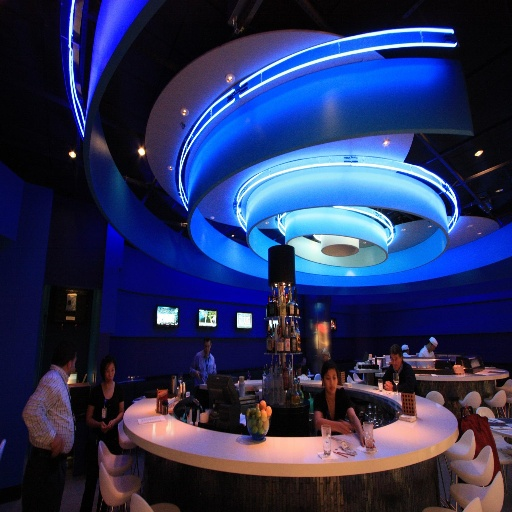hand: (457, 417, 503, 509), (51, 432, 62, 457), (359, 430, 375, 447), (339, 420, 354, 433), (107, 417, 115, 429), (384, 381, 393, 391), (98, 421, 106, 428), (384, 379, 391, 387), (196, 370, 201, 379)
